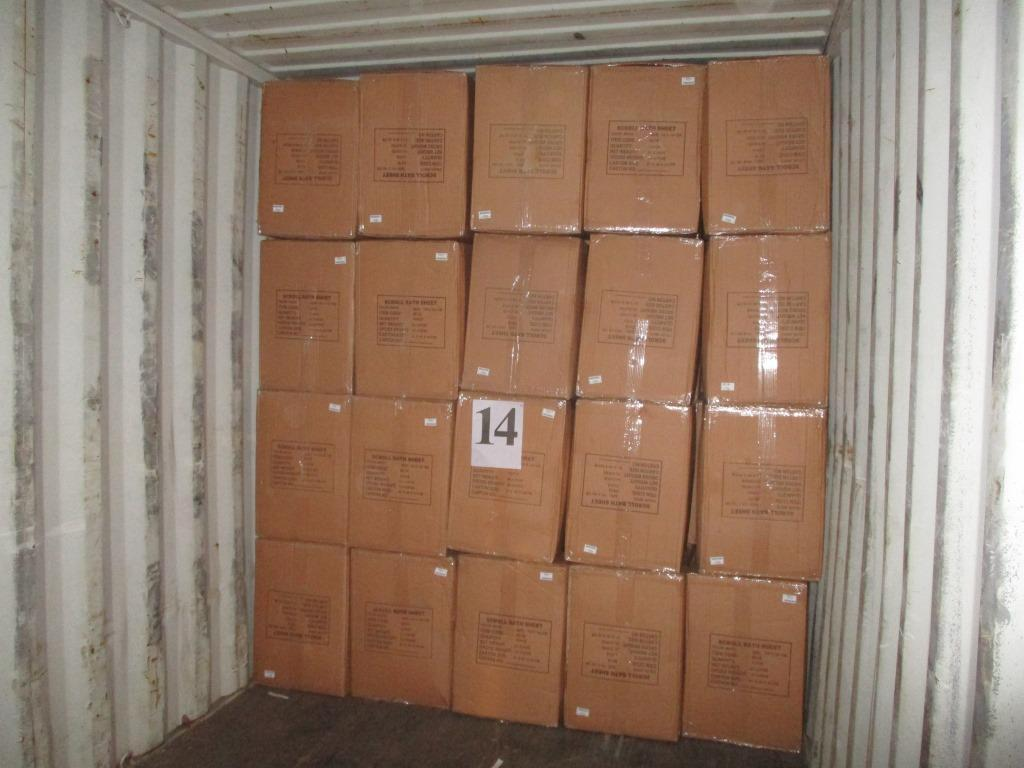carton: (691, 405, 828, 580), (701, 55, 831, 233), (701, 234, 831, 406), (681, 573, 806, 751), (565, 398, 694, 570), (563, 564, 685, 741), (576, 233, 703, 402), (582, 62, 706, 234), (446, 391, 572, 560), (460, 234, 585, 398), (452, 554, 568, 725), (471, 64, 588, 233), (357, 69, 472, 238), (354, 238, 469, 398), (349, 548, 456, 708), (348, 395, 454, 554), (259, 76, 360, 239), (253, 538, 349, 696), (258, 239, 355, 393), (255, 390, 351, 543)
